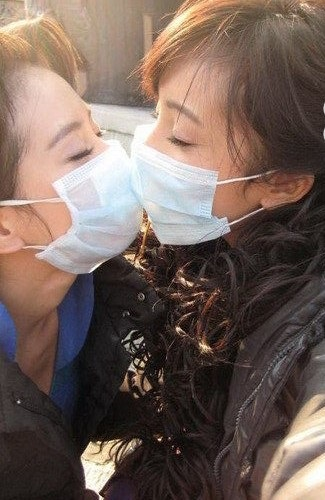face_mask: (7, 58, 139, 276), (134, 51, 248, 271)
